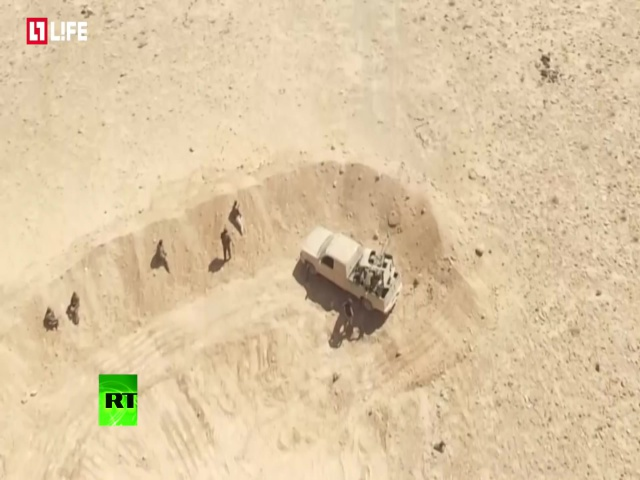person: (150, 238, 174, 276), (217, 226, 234, 263), (228, 200, 247, 233), (337, 297, 355, 330), (65, 290, 81, 327), (43, 308, 60, 333)
vehicle: (300, 225, 401, 314)
